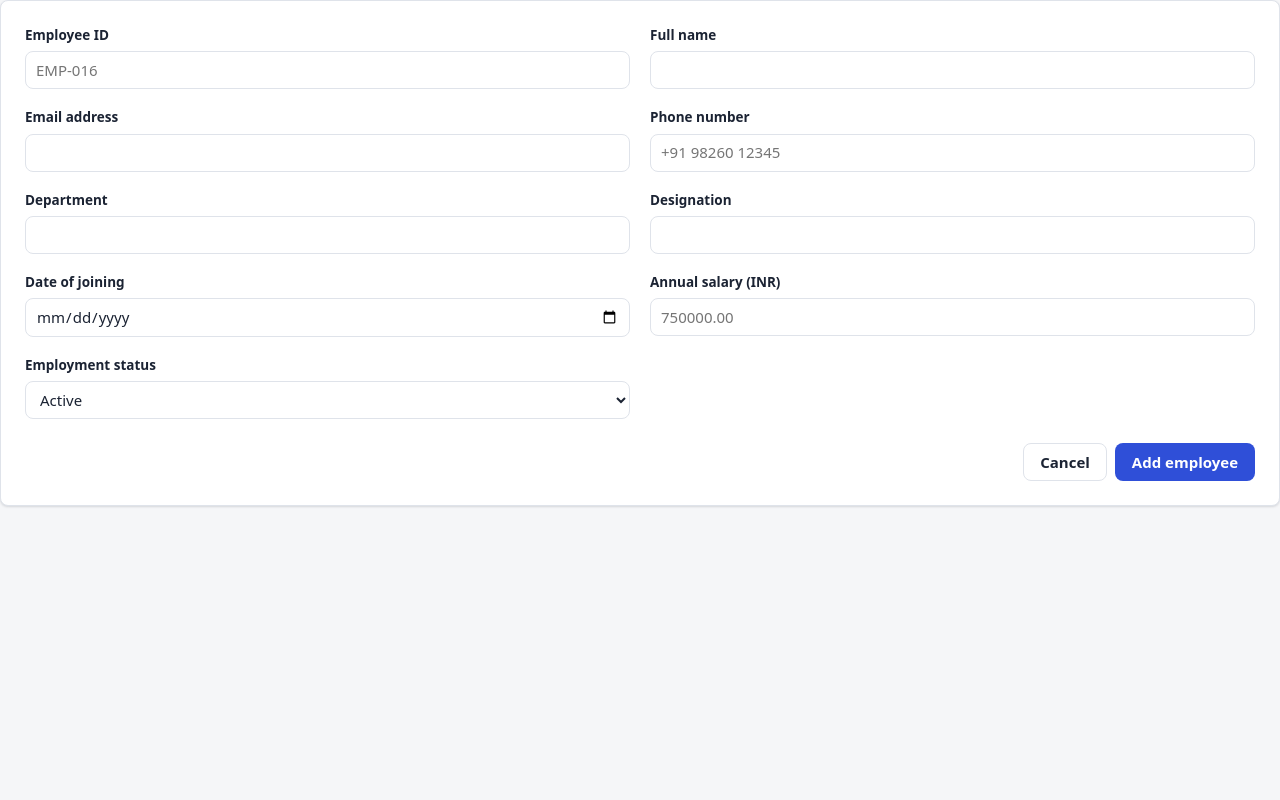
Test case: EmployeeForm › shows field errors and does not submit when required fields are empty
Click the button "Add employee": (1185, 462) [1115,443,1255,481]
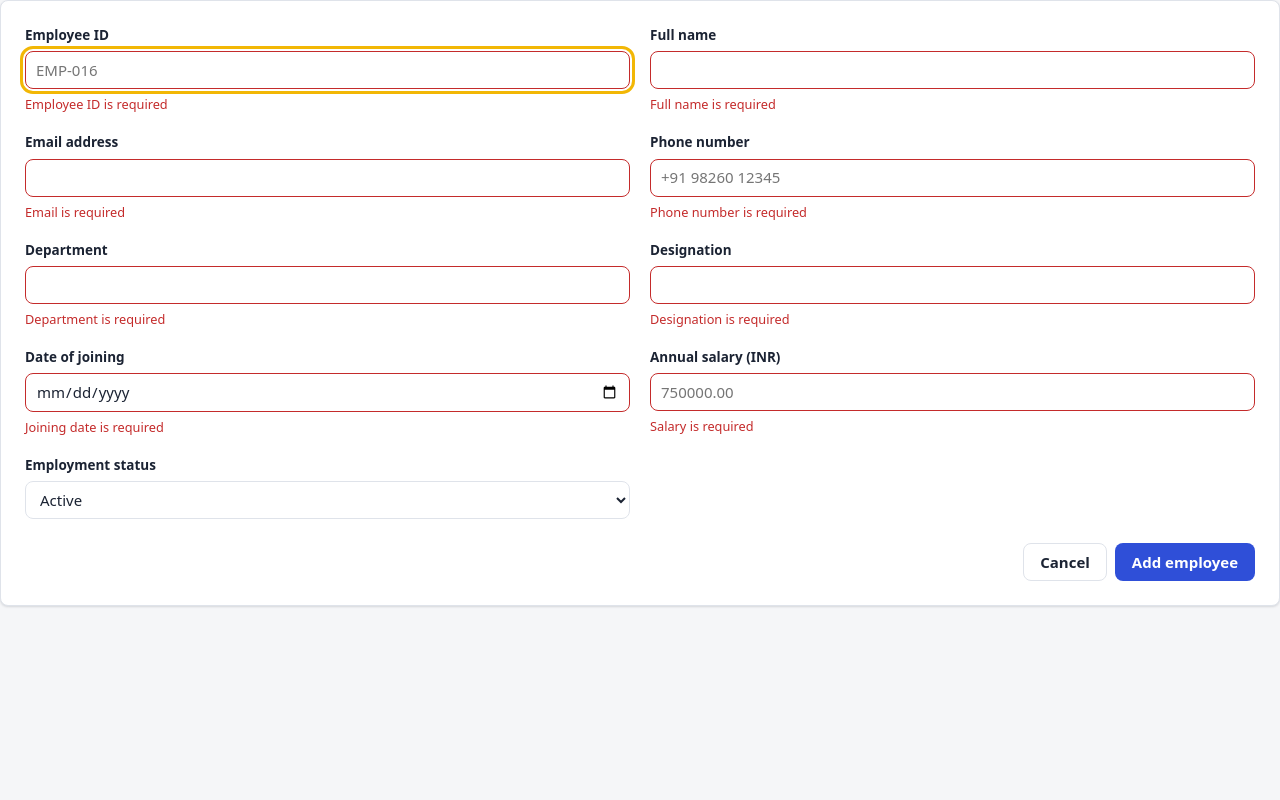
Expected: the text "Employee ID is required" is shown, [25,95,168,113]
Expected: the text "Email is required" is shown, [25,203,125,221]
